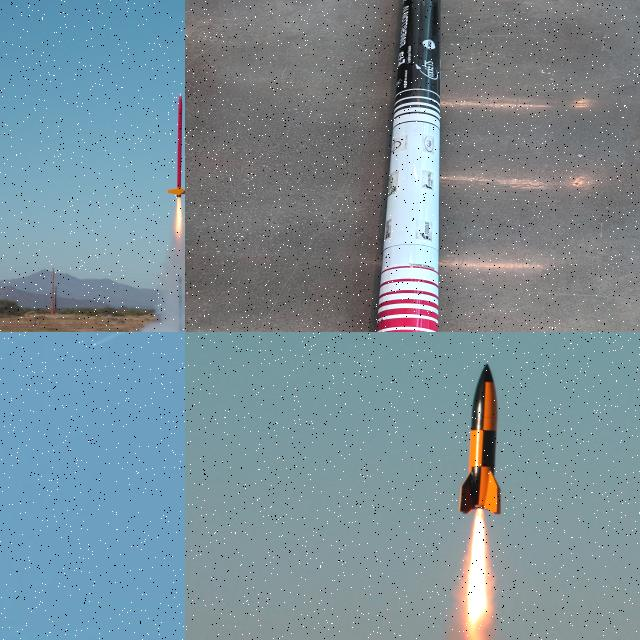Rocket: (376, 0, 441, 332), (458, 362, 505, 516), (167, 92, 185, 198), (93, 344, 95, 346)
